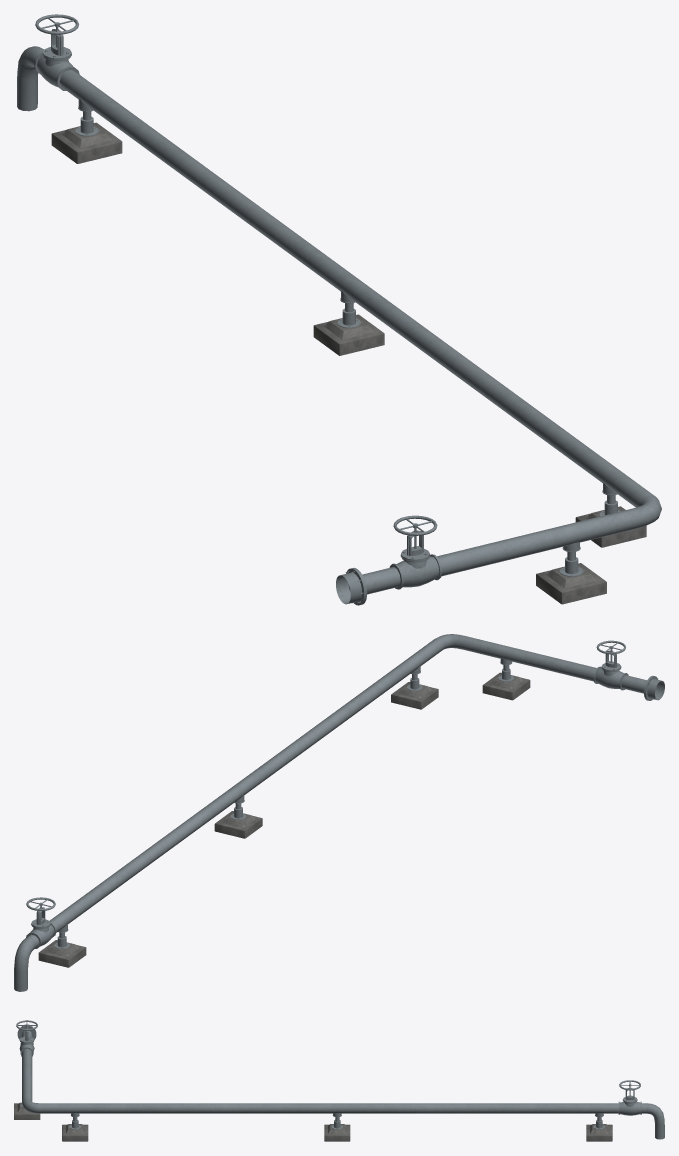
Rendered from SM_FuelPipe_3.fbx.
3 renders of one model, top to bottom at view 1: azimuth 30°, elevation 25°; view 2: azimuth 150°, elevation 25°; view 3: azimuth 270°, elevation 25°, orthographic. The views are drawn at different scales.
Parts seen in each view (by area): view 1: SM_FuelPipe_3_LOD0; view 2: SM_FuelPipe_3_LOD0; view 3: SM_FuelPipe_3_LOD0.
Boxes of the visible parts, x1,y1,x2,y2 form: SM_FuelPipe_3_LOD0: (17, 14, 661, 605); SM_FuelPipe_3_LOD0: (14, 634, 664, 991); SM_FuelPipe_3_LOD0: (14, 1020, 664, 1141).
Size of the model in its own units: 448 by 1490 by 133.
2 materials, 2 textured.
